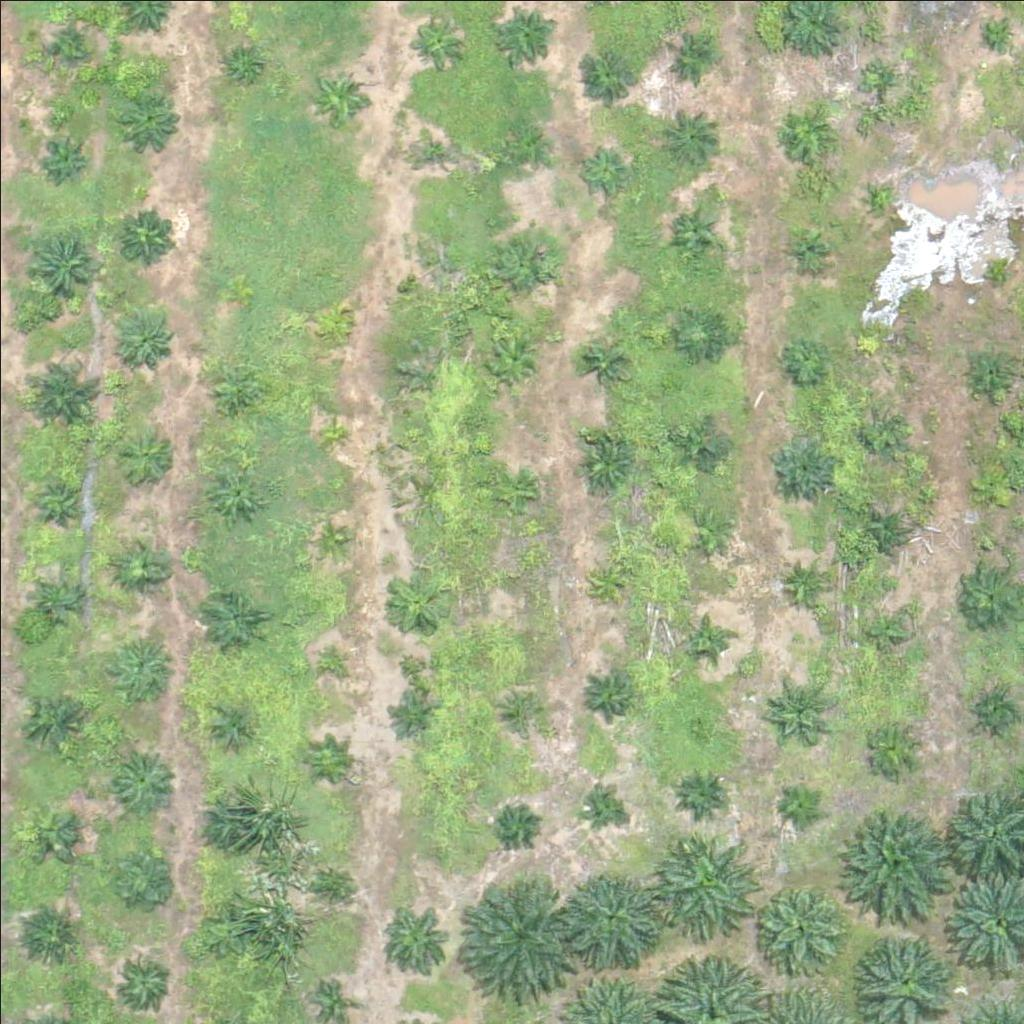Kelapa_Sawit: (450, 870, 575, 995), (841, 800, 954, 914), (653, 819, 765, 932), (564, 870, 664, 971), (750, 876, 850, 977), (18, 348, 105, 436), (108, 839, 183, 915), (27, 230, 102, 305), (376, 904, 451, 979), (116, 424, 179, 487), (111, 631, 174, 694), (113, 307, 176, 370), (655, 104, 718, 167), (770, 671, 833, 734), (864, 717, 927, 780), (497, 233, 560, 296), (198, 588, 261, 651), (307, 65, 370, 128), (768, 435, 831, 498), (202, 458, 265, 521), (197, 788, 260, 851), (18, 904, 81, 967), (853, 600, 916, 663), (576, 35, 639, 98), (113, 747, 175, 810), (120, 87, 182, 150), (116, 204, 178, 267), (23, 687, 85, 750), (961, 562, 1023, 625), (574, 431, 636, 494), (480, 330, 542, 393), (384, 570, 446, 633), (411, 16, 461, 67), (674, 308, 724, 359), (206, 696, 256, 747), (676, 426, 726, 477), (856, 504, 906, 555), (199, 902, 249, 953), (780, 561, 830, 612), (855, 410, 905, 461), (967, 464, 1017, 515), (779, 337, 829, 388), (581, 337, 631, 388), (407, 122, 457, 173), (495, 124, 545, 175), (577, 147, 627, 198), (669, 205, 719, 256), (117, 538, 167, 588), (45, 129, 95, 179), (25, 808, 75, 858), (676, 769, 726, 819), (780, 104, 830, 154), (582, 671, 632, 721), (212, 370, 262, 420), (117, 956, 167, 1006), (44, 15, 94, 65), (386, 692, 436, 742), (486, 467, 536, 517), (683, 507, 733, 557), (775, 774, 825, 824), (961, 344, 1011, 394), (666, 34, 716, 84), (784, 221, 834, 271), (37, 476, 86, 527), (304, 739, 342, 777), (497, 811, 535, 849), (311, 638, 349, 676), (313, 519, 351, 557), (311, 412, 349, 450), (315, 312, 353, 350), (589, 565, 627, 603), (686, 620, 724, 658), (224, 41, 262, 79), (581, 785, 618, 823), (39, 580, 76, 618), (504, 687, 541, 725), (492, 558, 529, 596), (409, 260, 446, 298), (314, 978, 351, 1015), (310, 868, 347, 905), (872, 189, 897, 214), (867, 61, 892, 86), (984, 18, 1009, 43), (984, 262, 1009, 287)
